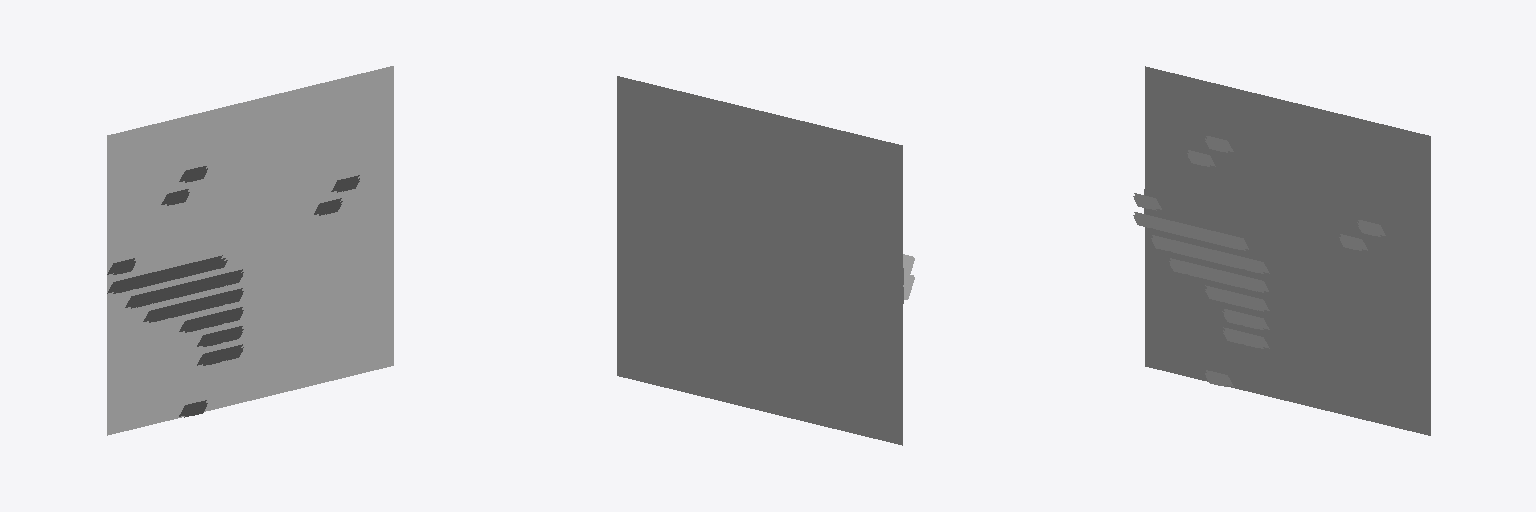
Rendered from Plat_full_08_04.obj.
3 views of the same model, side by side, from view 1: azimuth 30°, elevation 25°; view 2: azimuth 150°, elevation 25°; view 3: azimuth 330°, elevation 25° (orthographic).
Visible parts, largest first — view 1: map; view 2: map; view 3: map.
Part boxes in pixels (x1,y1,x2,y2): map: (107,66,393,435); map: (617,76,914,445); map: (1133,66,1430,435).
Size of the model in its own units: 32.25 by 32 by 2.64.